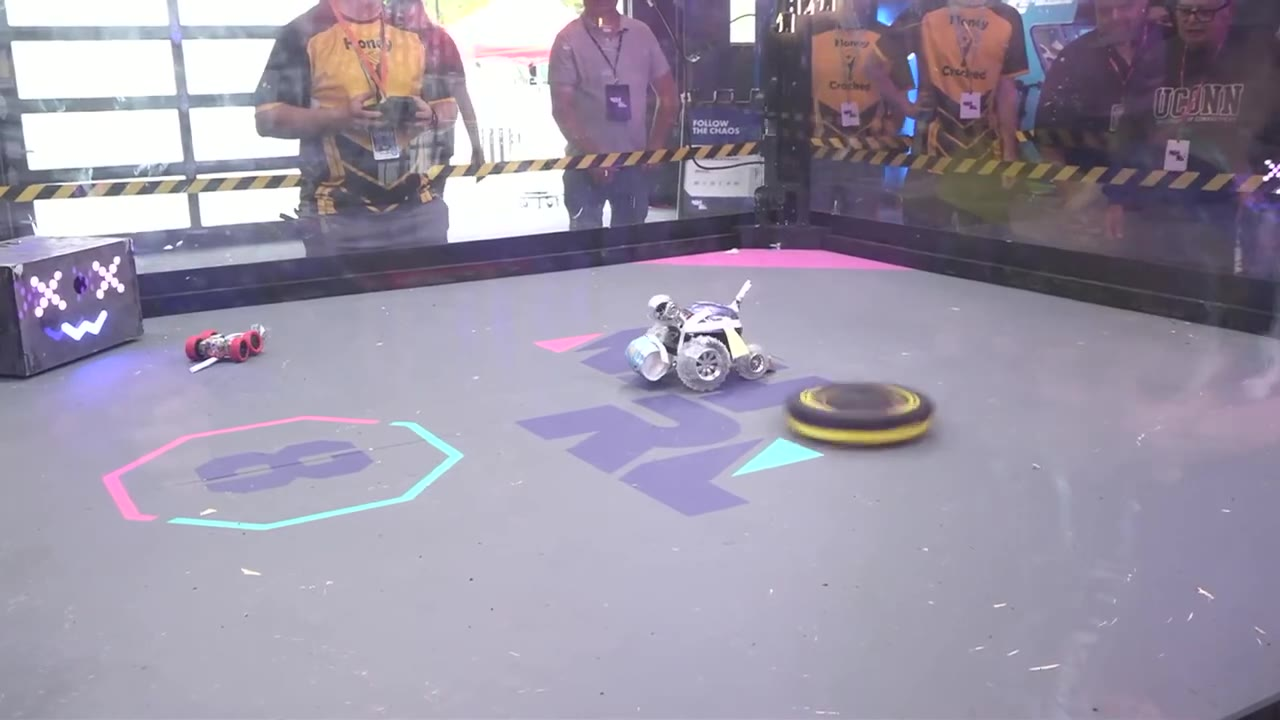combatbot: (626, 298, 777, 392), (781, 379, 938, 446)
housebot: (0, 236, 141, 381)
minibot: (183, 326, 270, 374)
